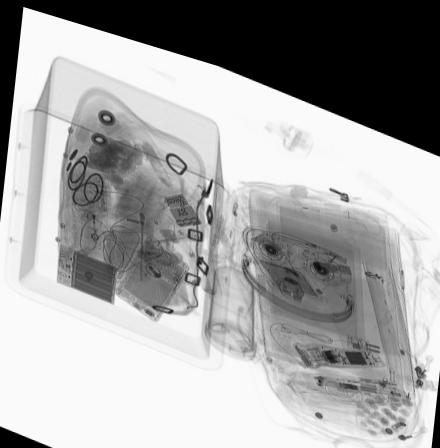Lighter: (83, 202, 98, 239)
